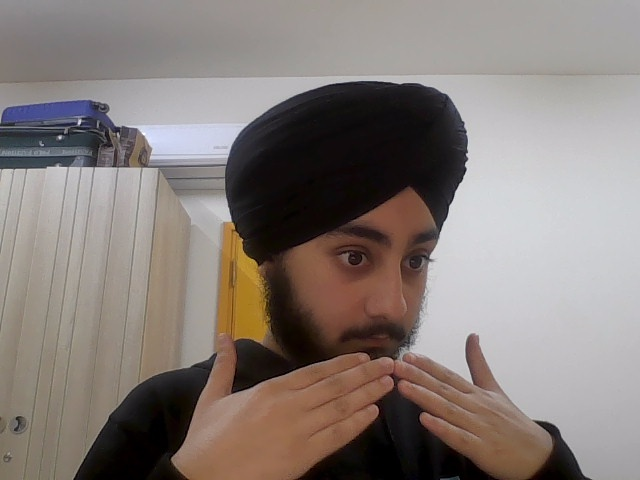Thanks: (172, 331, 559, 480)
